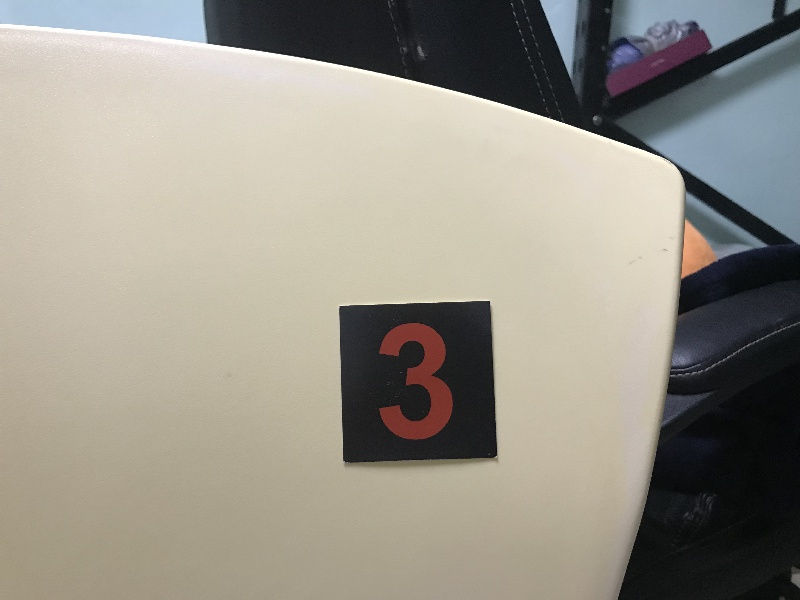Three-8: (345, 308, 489, 456)
